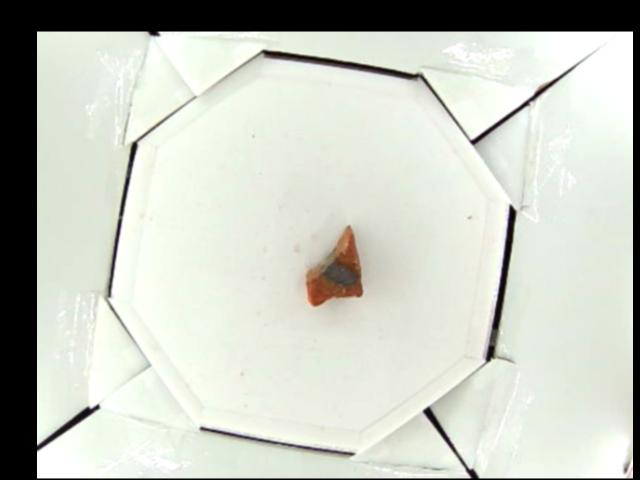Brisk: (306, 225, 363, 308)
